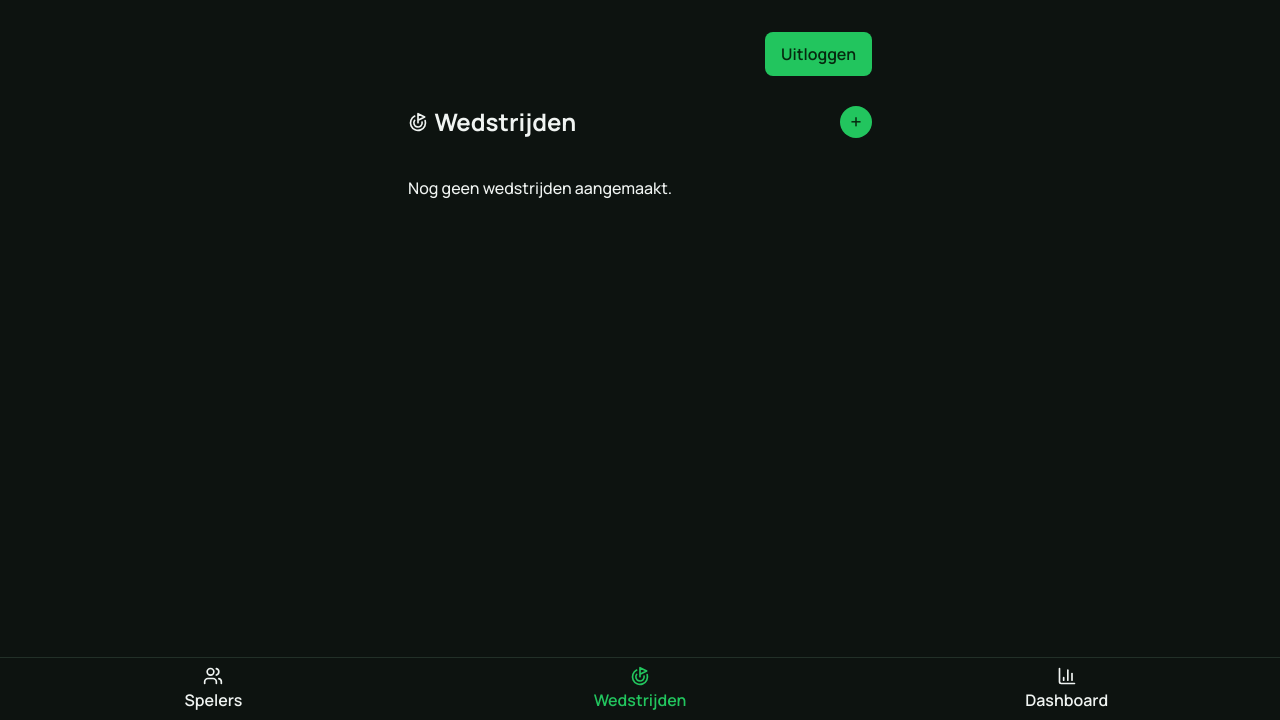
Scenario: HomeScreen › navigates between Spelers and Wedstrijden via the tab bar
Check: the heading "Wedstrijden" is shown, box x1=408 y1=104 x2=576 y2=140
Step 1. Click the link "Spelers" → (213, 688), box x1=184 y1=666 x2=242 y2=711
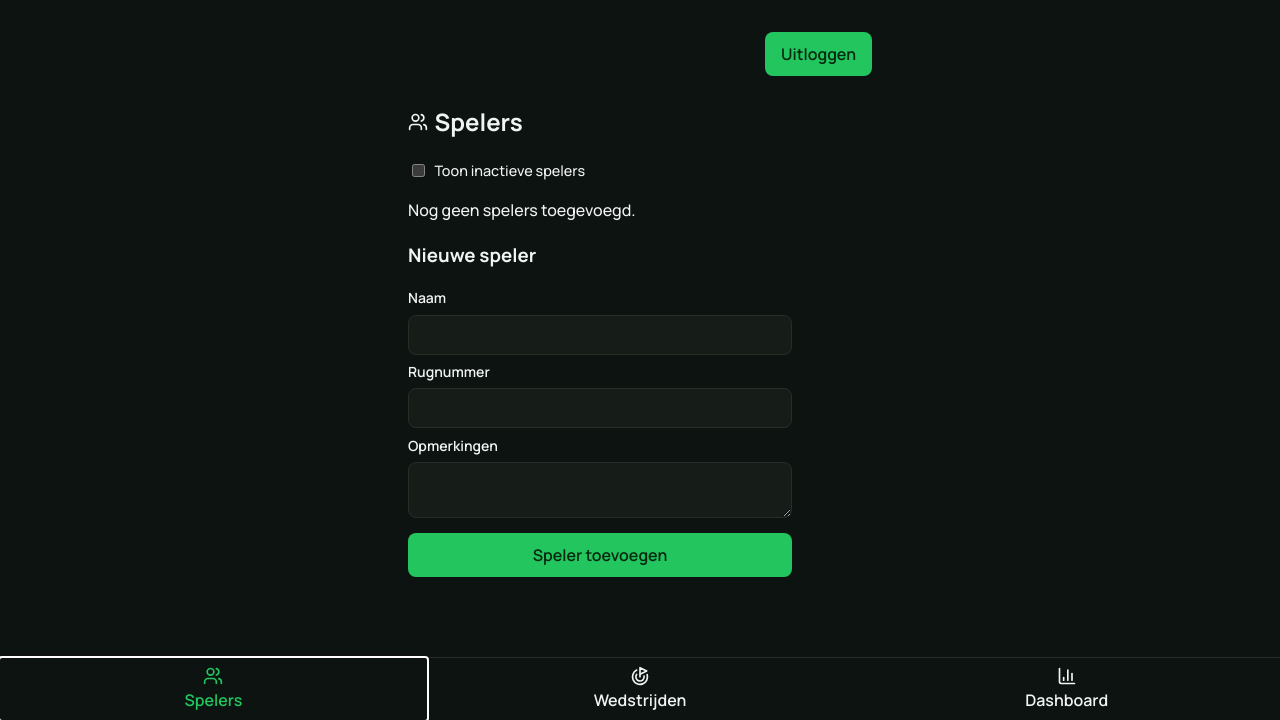
Check: the text "Nog geen spelers toegevoegd." is shown, box x1=408 y1=199 x2=636 y2=221
Step 2. Click the link "Wedstrijden" → (640, 688), box x1=594 y1=666 x2=686 y2=711
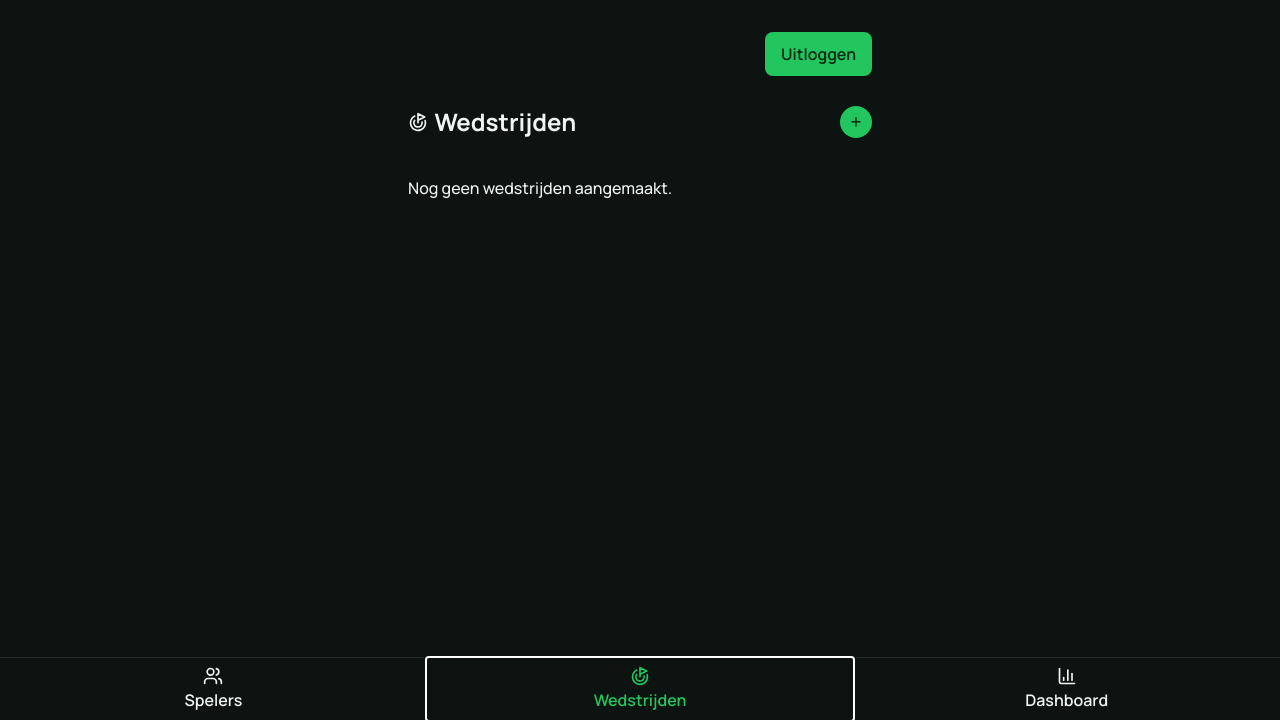
Check: the text "Nog geen wedstrijden aangemaakt." is shown, box x1=408 y1=177 x2=672 y2=199
